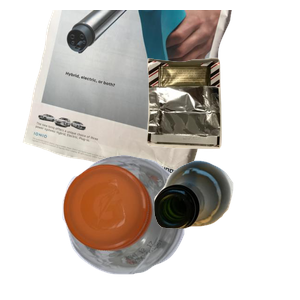glass: (151, 158, 300, 300)
paper: (20, 10, 244, 190)
plastic: (60, 152, 237, 300)
trash: (144, 55, 300, 197)
